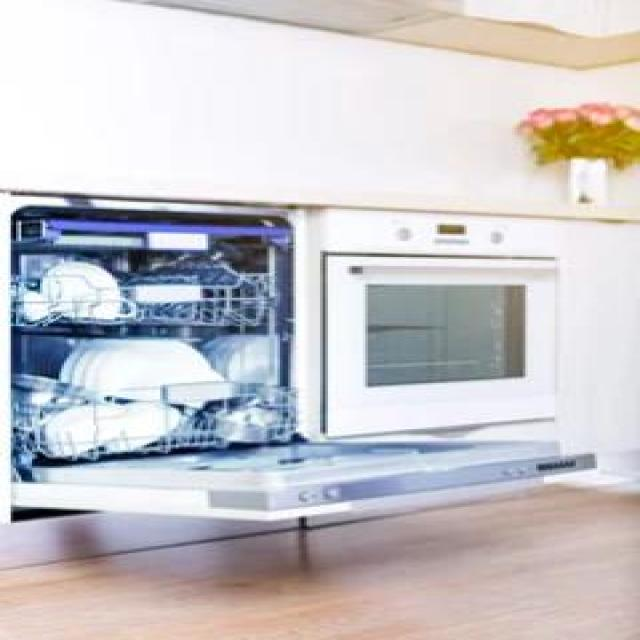dishwasher: (0, 192, 608, 526)
